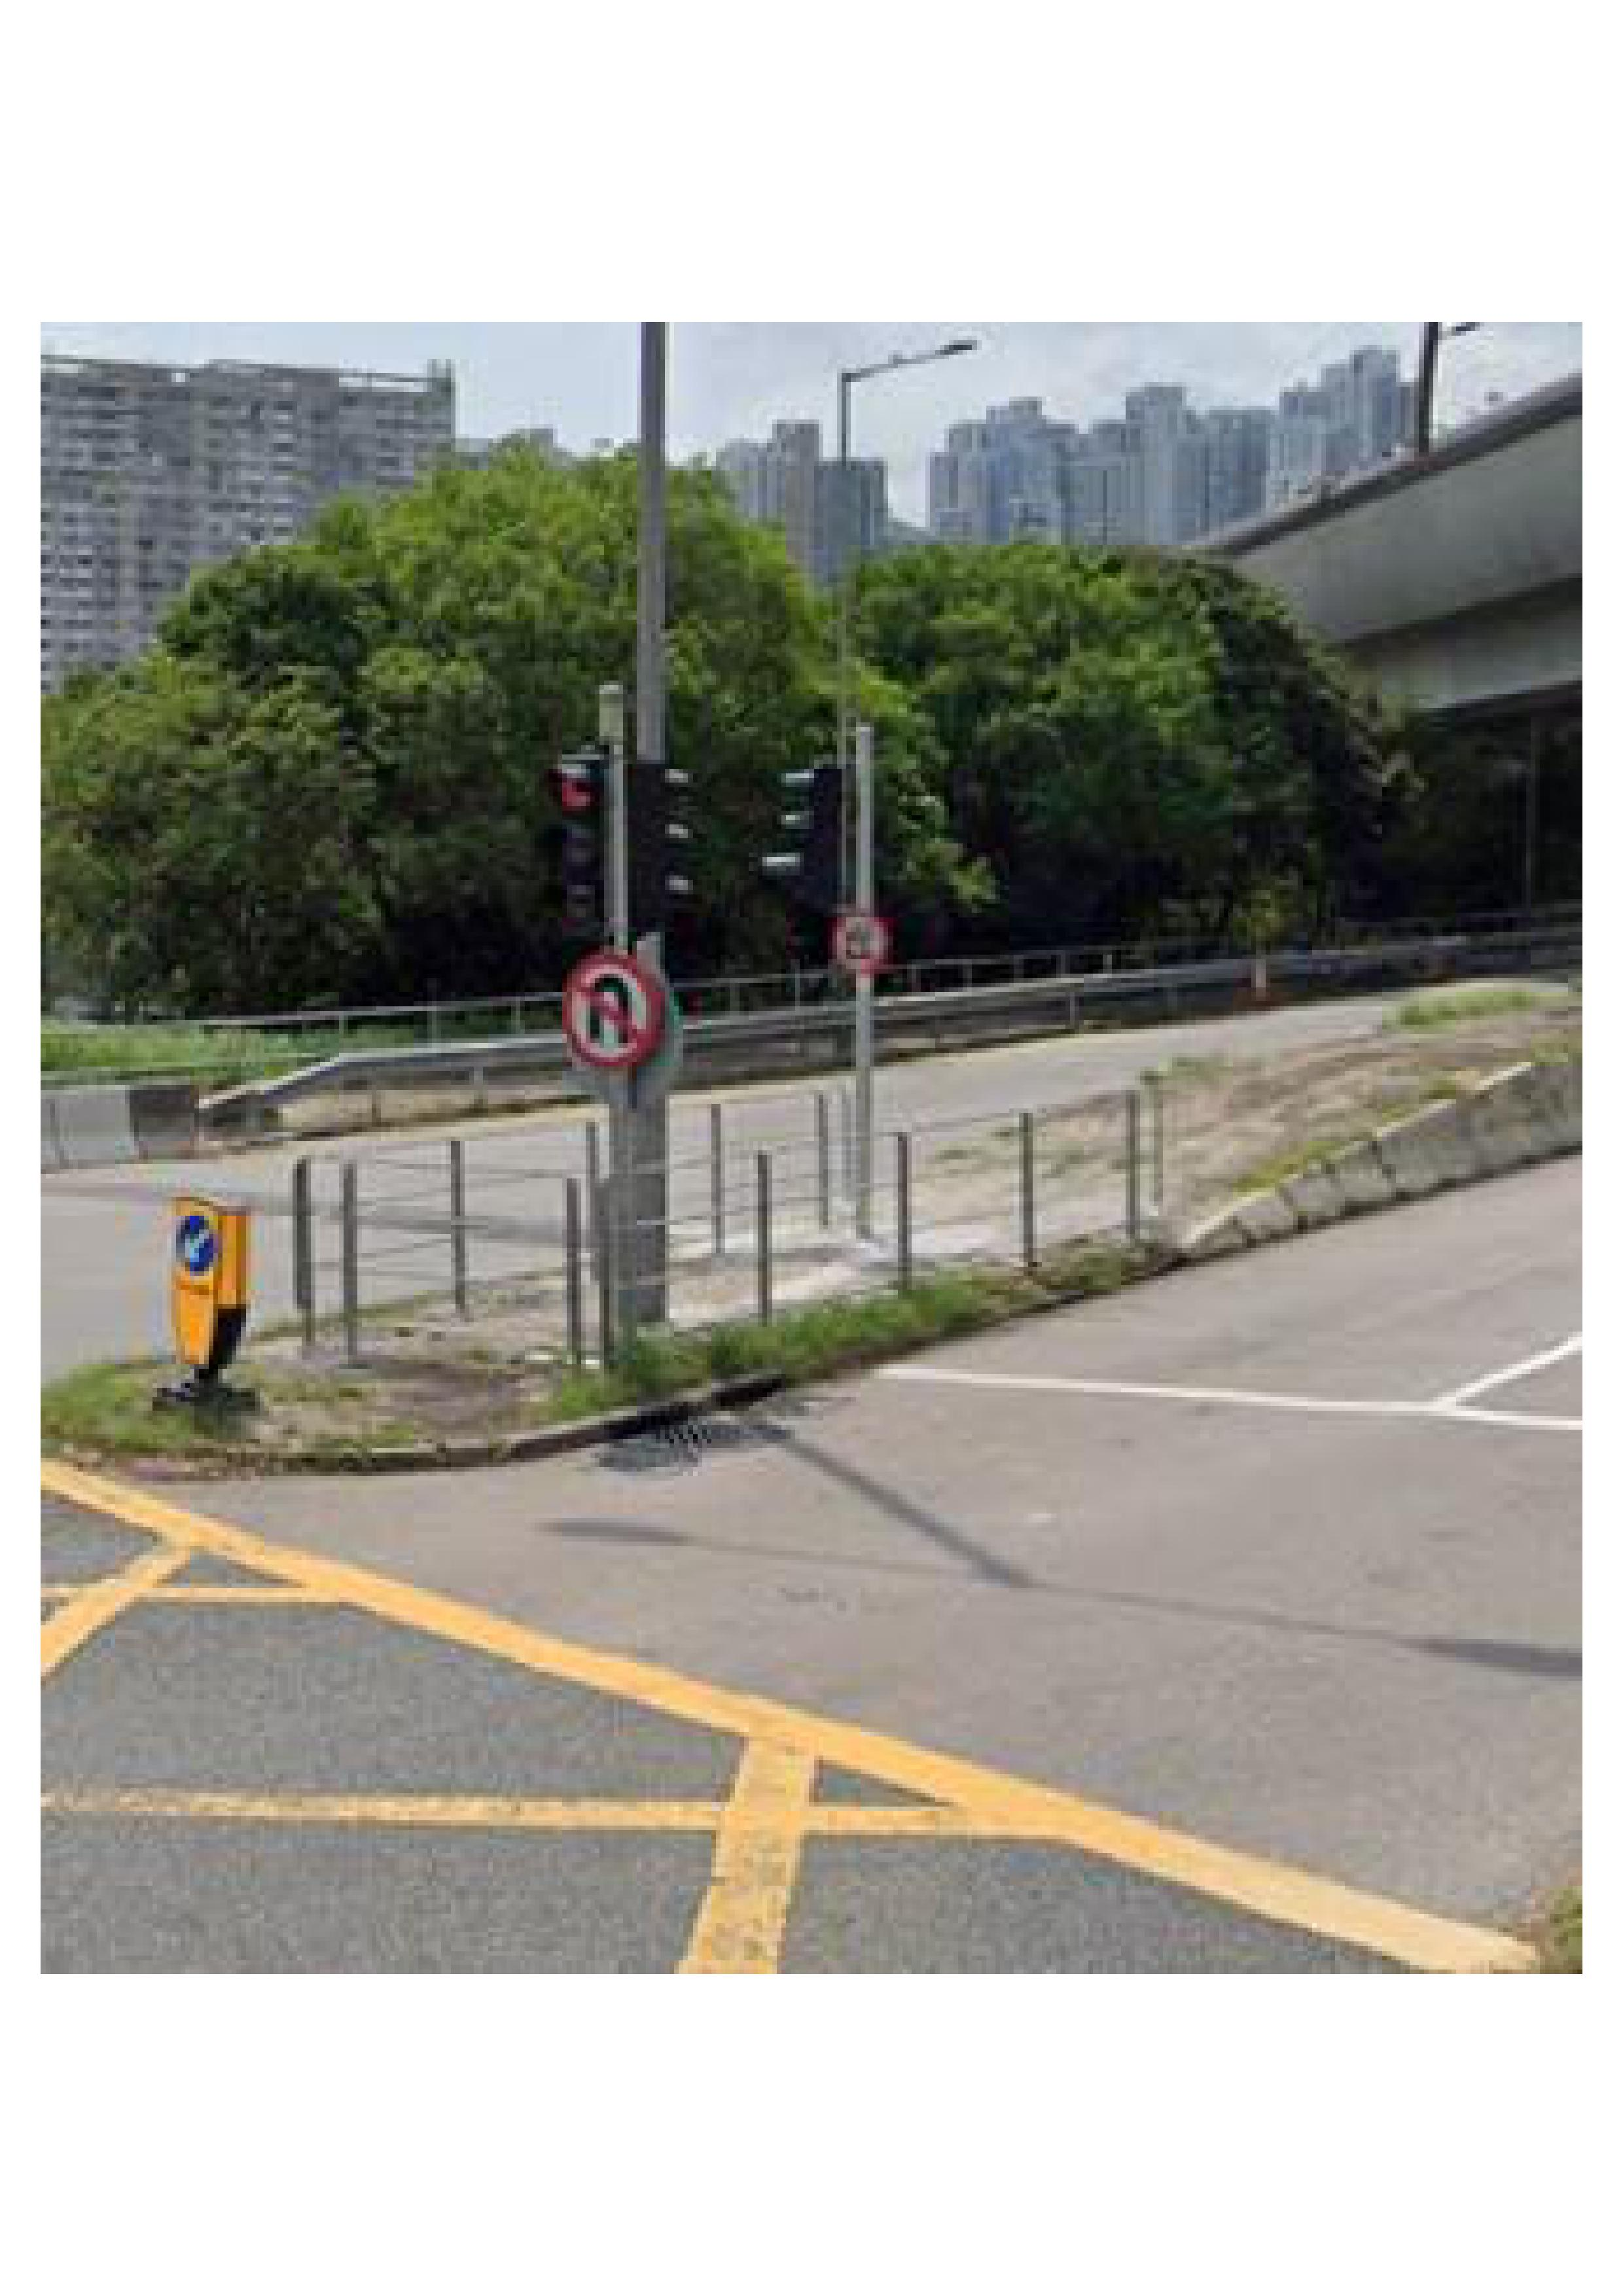No Uturn: (552, 944, 664, 1071)
